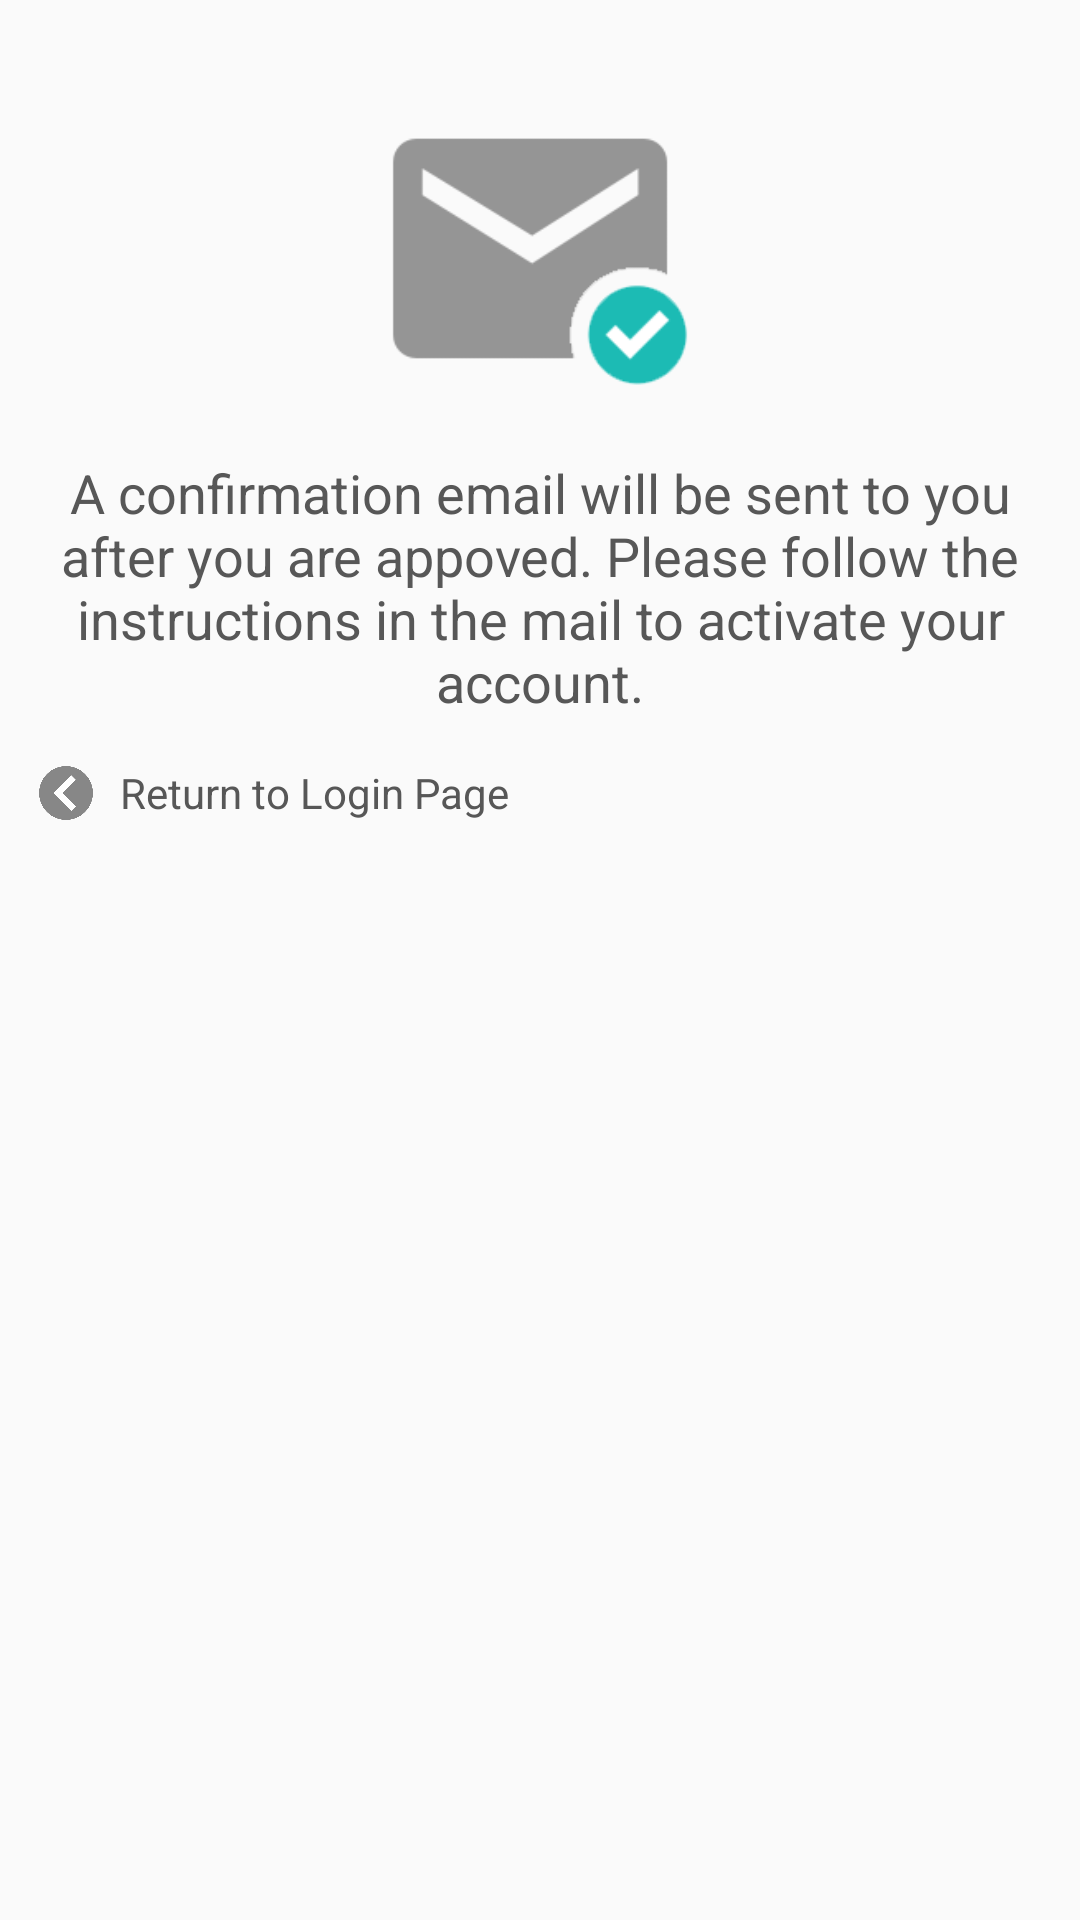

Icon click points for this 1080 × 1920 phone screenshot, format point (x, y):
cfmail: point (540, 261)
leftarrow: point (66, 793)
